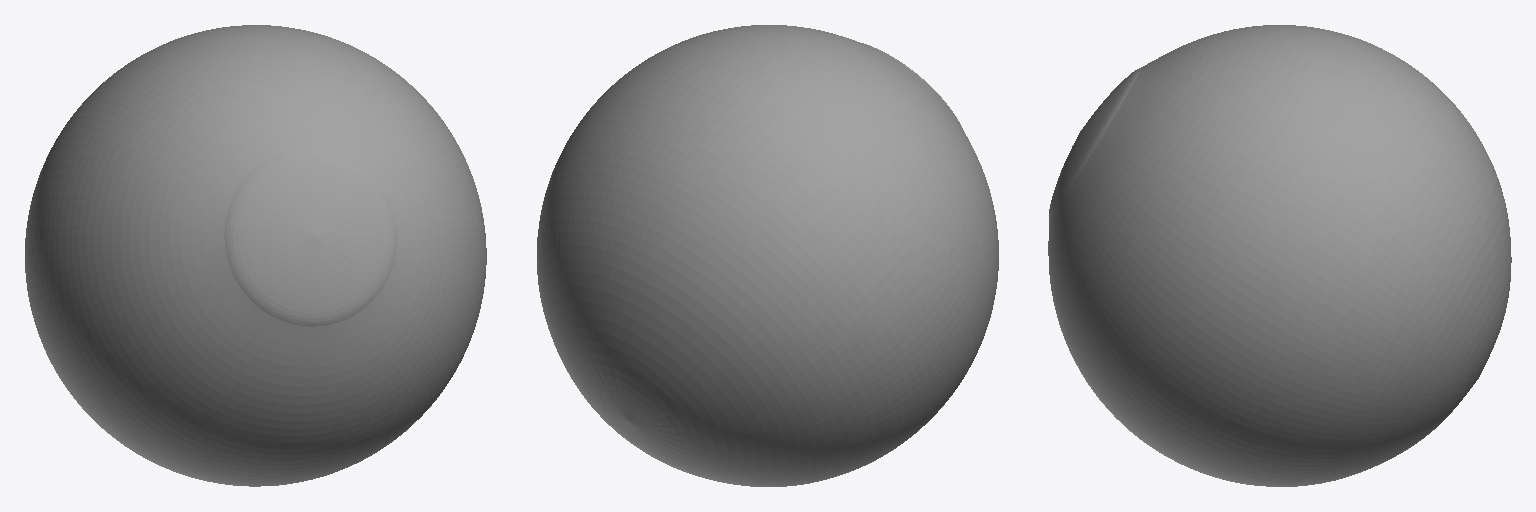
File: eyeball.obj
3 renders of one model, left to right at view 1: azimuth 30°, elevation 25°; view 2: azimuth 150°, elevation 25°; view 3: azimuth 270°, elevation 25°, orthographic.
Parts seen in each view (by area): view 1: eyeball_1_eye_1, eyeball_1.003_eye_1.003; view 2: eyeball_1_eye_1; view 3: eyeball_1_eye_1, eyeball_1.003_eye_1.003.
Part boxes in pixels (bbox=[...]): eyeball_1_eye_1: bbox=[25, 25, 486, 486]; eyeball_1.003_eye_1.003: bbox=[224, 149, 396, 326]; eyeball_1_eye_1: bbox=[537, 25, 998, 486]; eyeball_1_eye_1: bbox=[1048, 25, 1511, 486]; eyeball_1.003_eye_1.003: bbox=[1049, 67, 1141, 218].
Bounding box in the file's own units: 3.86 × 3.86 × 3.87.